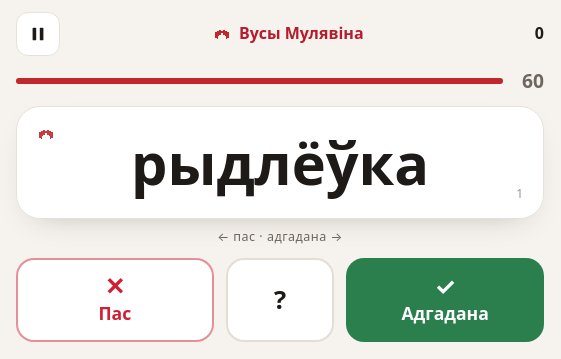
Test: PlayScreen › падказка да слова › кнопка з пытальнікам стаіць паміж «Пас» і «Адгадана» і адкрывае пераклады
Click the button named "Падказка" at (280, 300), box [226,258,334,342]
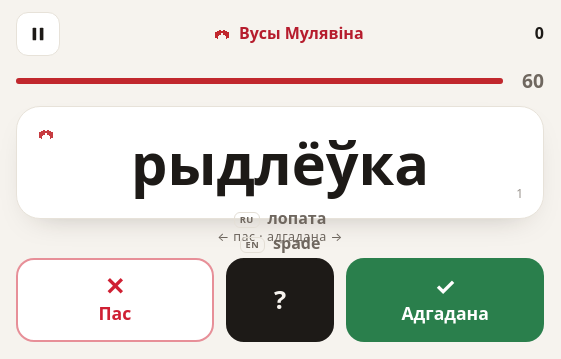
Expected: the button named "Падказка" is expanded
Expected: the element with class "card__hint-row" reads "RU лопата", [234,208,326,229]
Expected: the element with class "card__hint-row" reads "EN spade", [240,233,320,254]
Click the button named "Падказка" at (280, 300), box [226,258,334,342]
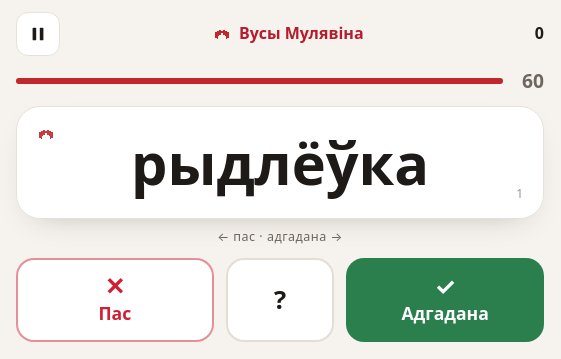
Expected: the element with class "card__hint" is gone
Expected: the button named "Падказка" is collapsed, [226,258,334,342]
